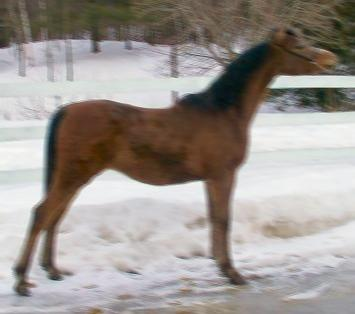horse: (12, 22, 338, 296)
